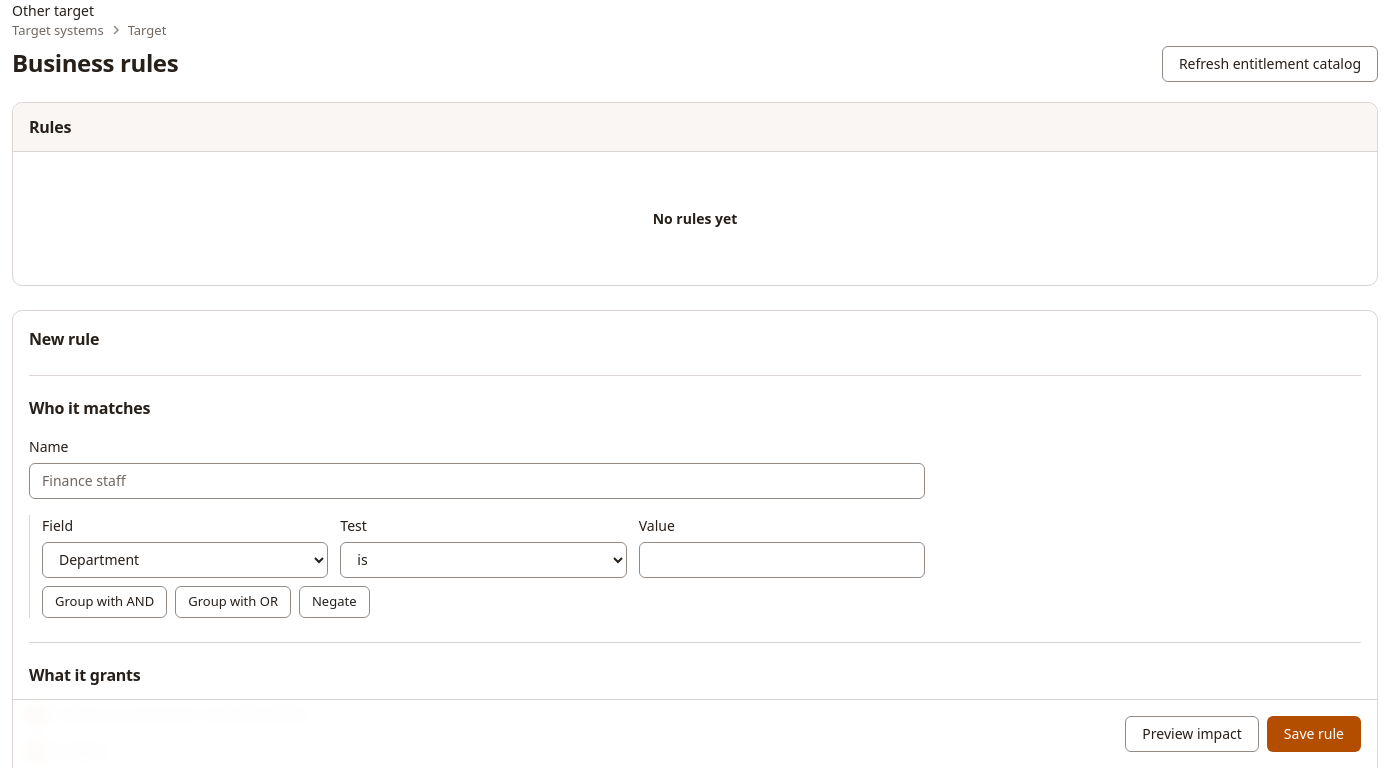
it: BusinessRulesPage › leads with the revocations when an edit would take access away
This screenshot has width=1390, height=768.
Click the button "Preview impact" at (1192, 734), box [1125,716,1259,752]
(page scrolled)
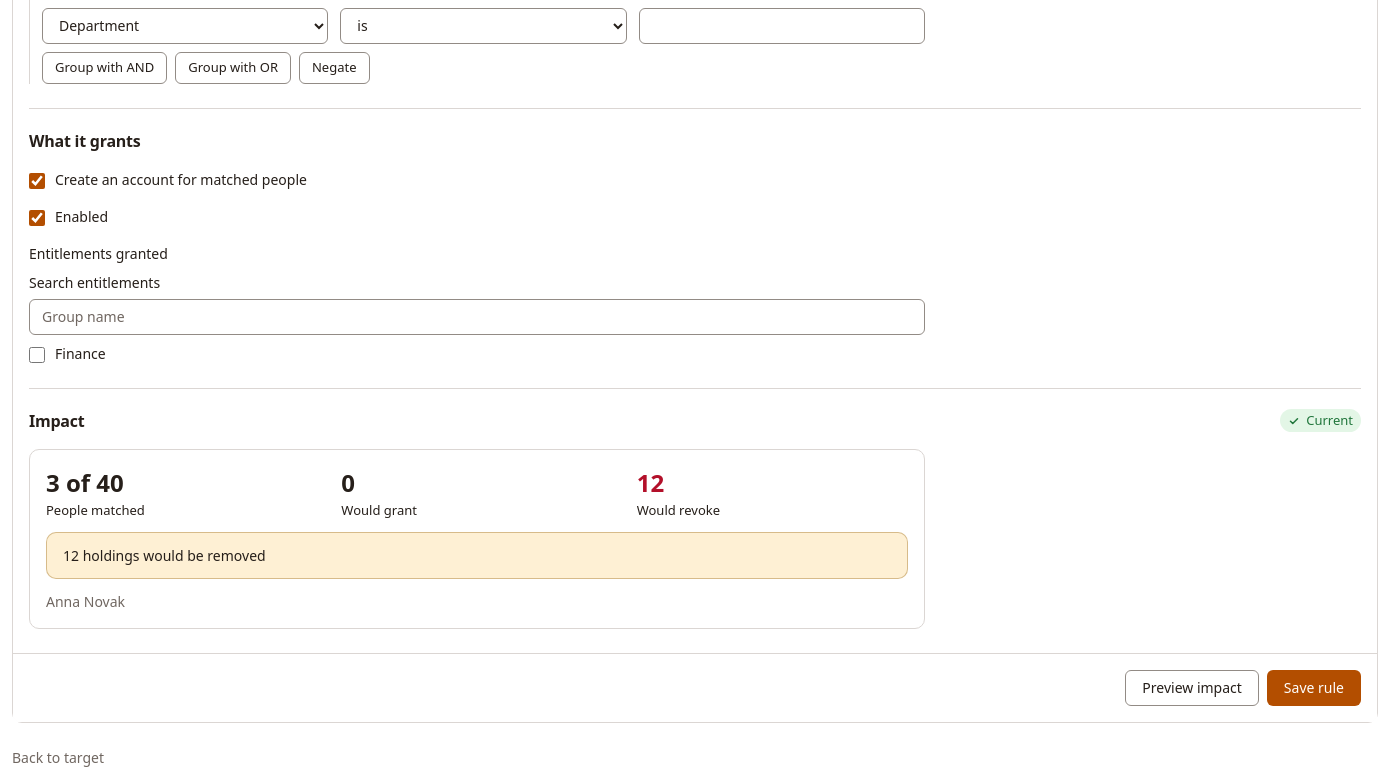
Result: the text "12 holdings would be removed" is shown at [63,546,266,565]
